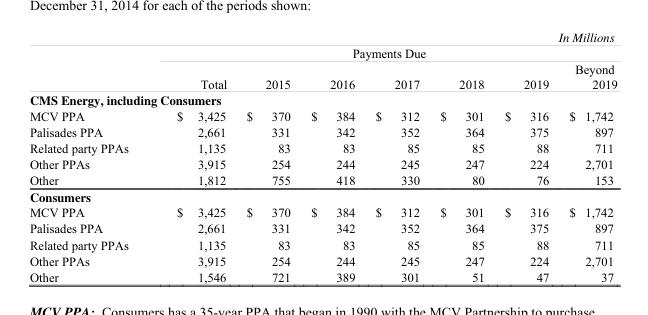table: (28, 29, 616, 283)
table column: (28, 29, 151, 283), (151, 29, 236, 283), (364, 29, 429, 283), (236, 29, 300, 283), (300, 29, 364, 283), (429, 29, 493, 283), (553, 29, 616, 283), (493, 29, 553, 283)
table column header: (28, 29, 616, 90)
table projected row header: (28, 90, 616, 108), (28, 187, 616, 205)
table row: (28, 60, 616, 90), (28, 90, 616, 108), (28, 187, 616, 205), (28, 29, 616, 45), (28, 123, 616, 139), (28, 139, 616, 155), (28, 155, 616, 171), (28, 171, 616, 187), (28, 220, 616, 236), (28, 236, 616, 252), (28, 252, 616, 268), (28, 45, 616, 60), (28, 108, 616, 123), (28, 205, 616, 220), (28, 268, 616, 283)
table spanning cell: (151, 45, 616, 60)
